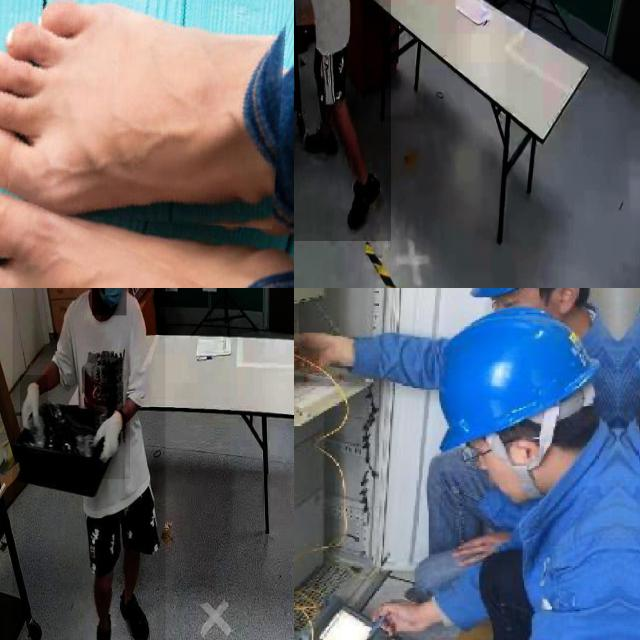Barefoots: (0, 0, 294, 225), (0, 194, 294, 288)
No_Ear-Protection: (515, 439, 542, 463), (557, 288, 579, 315)
face_mask: (91, 288, 126, 315)
hand_glove: (92, 404, 130, 479), (20, 375, 48, 437)
hand_noglove: (376, 601, 443, 633), (294, 332, 352, 368), (452, 532, 510, 567)
head_helmet: (439, 309, 597, 451)
person: (12, 288, 165, 640), (294, 0, 391, 242)
shoes: (345, 168, 383, 232), (117, 589, 151, 640), (304, 119, 340, 164), (88, 604, 117, 640)
